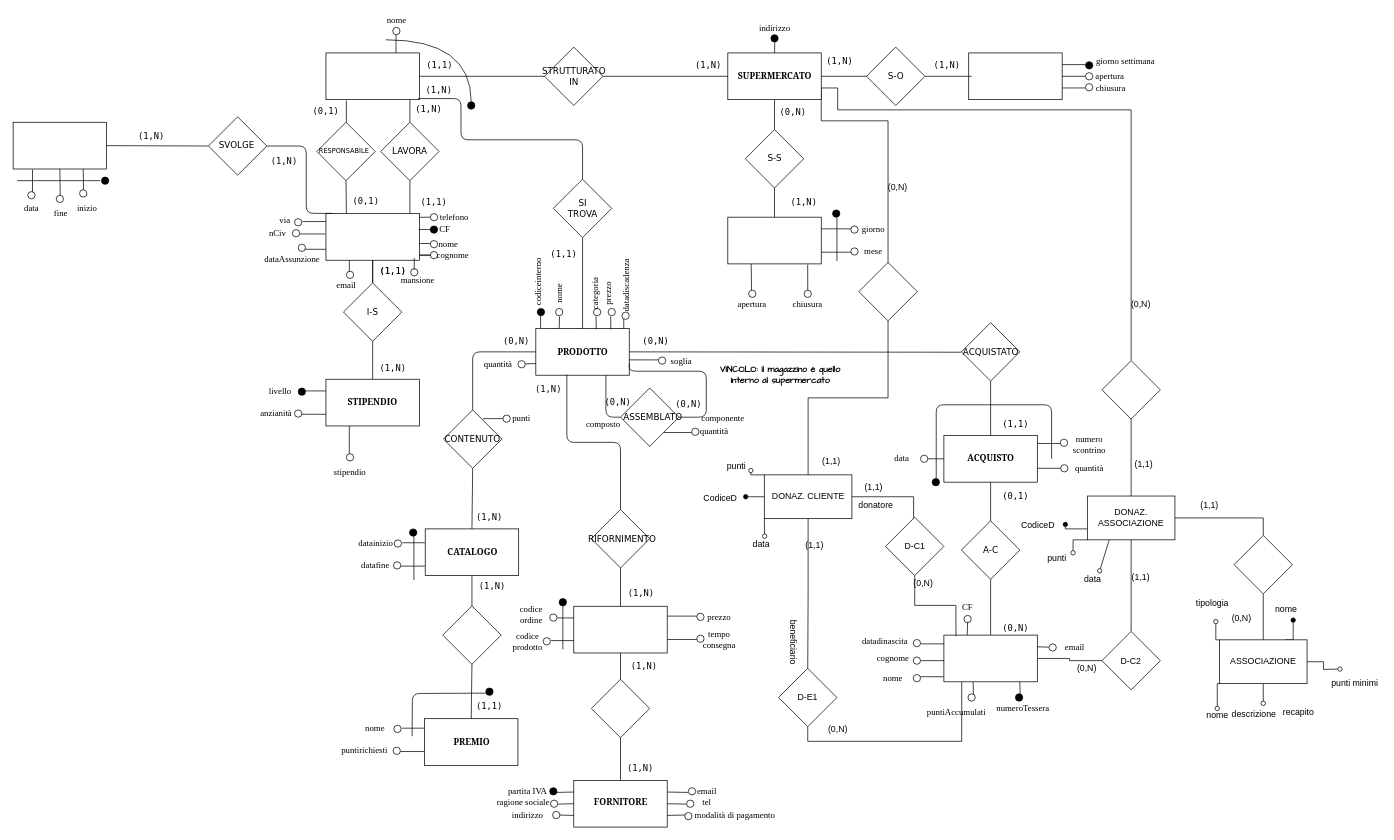
Image size: 1394x840. Some labels were removed from this diagram. Each missing label, with the centre of its shape:
C-P: pixel 471 634
CLIENTE: pixel 990 658
D-E2: pixel 1262 564
IMPIEGATO: pixel 372 236
O-F: pixel 620 708
ORARIO ORDINARIO: pixel 1015 76
ORARIO STRAORDINARIO: pixel 774 240
ORDINE: pixel 620 629
REPARTO: pixel 372 76
S-D1: pixel 887 291
S-D2: pixel 1130 389
TURNO: pixel 59 145
